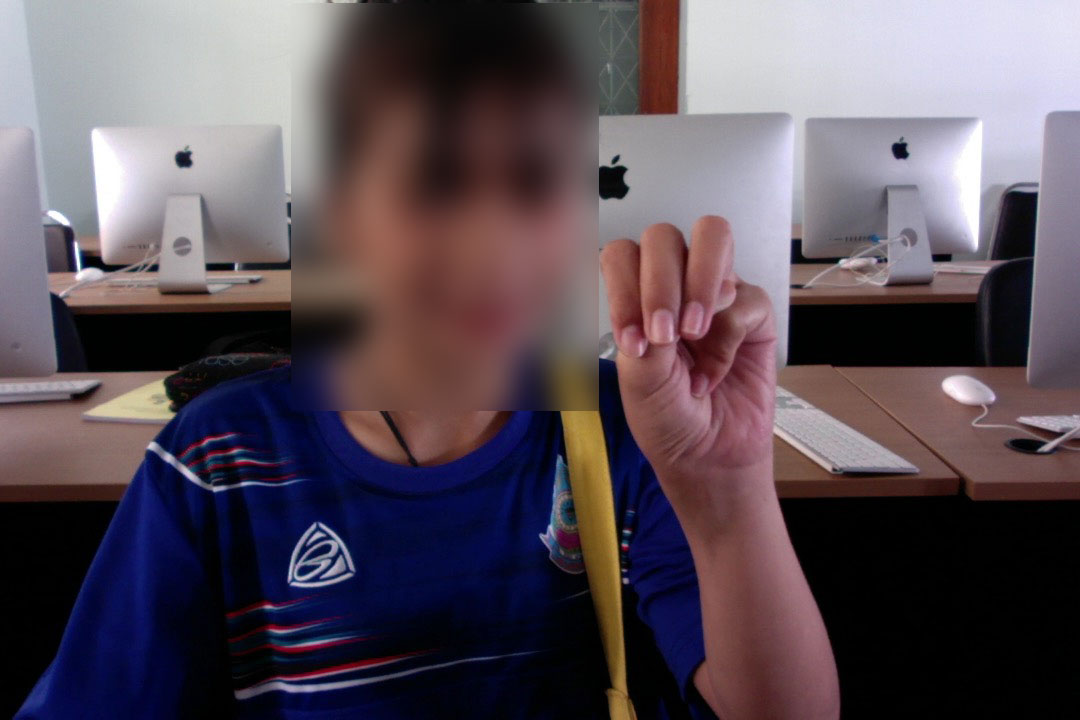mor: (585, 205, 786, 485)
